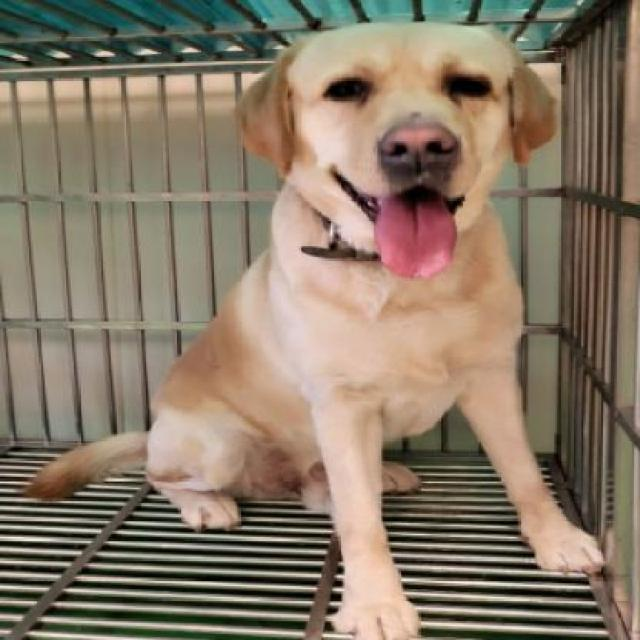Dog: (11, 17, 606, 638)
